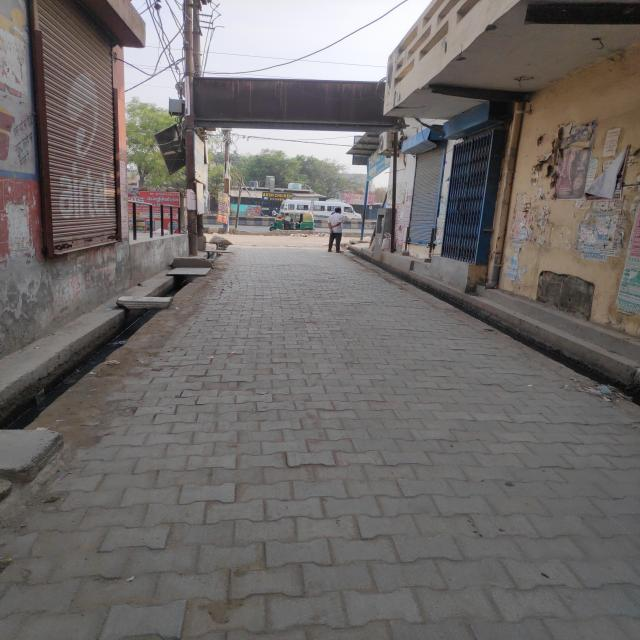Auto: (270, 210, 315, 231)
Traveller: (280, 199, 360, 220)
